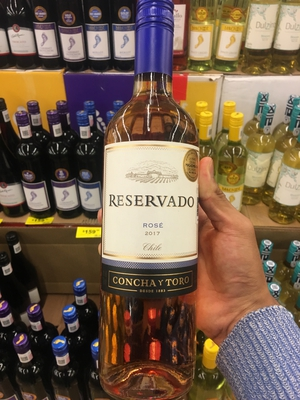reservado rose: (94, 5, 208, 385)
